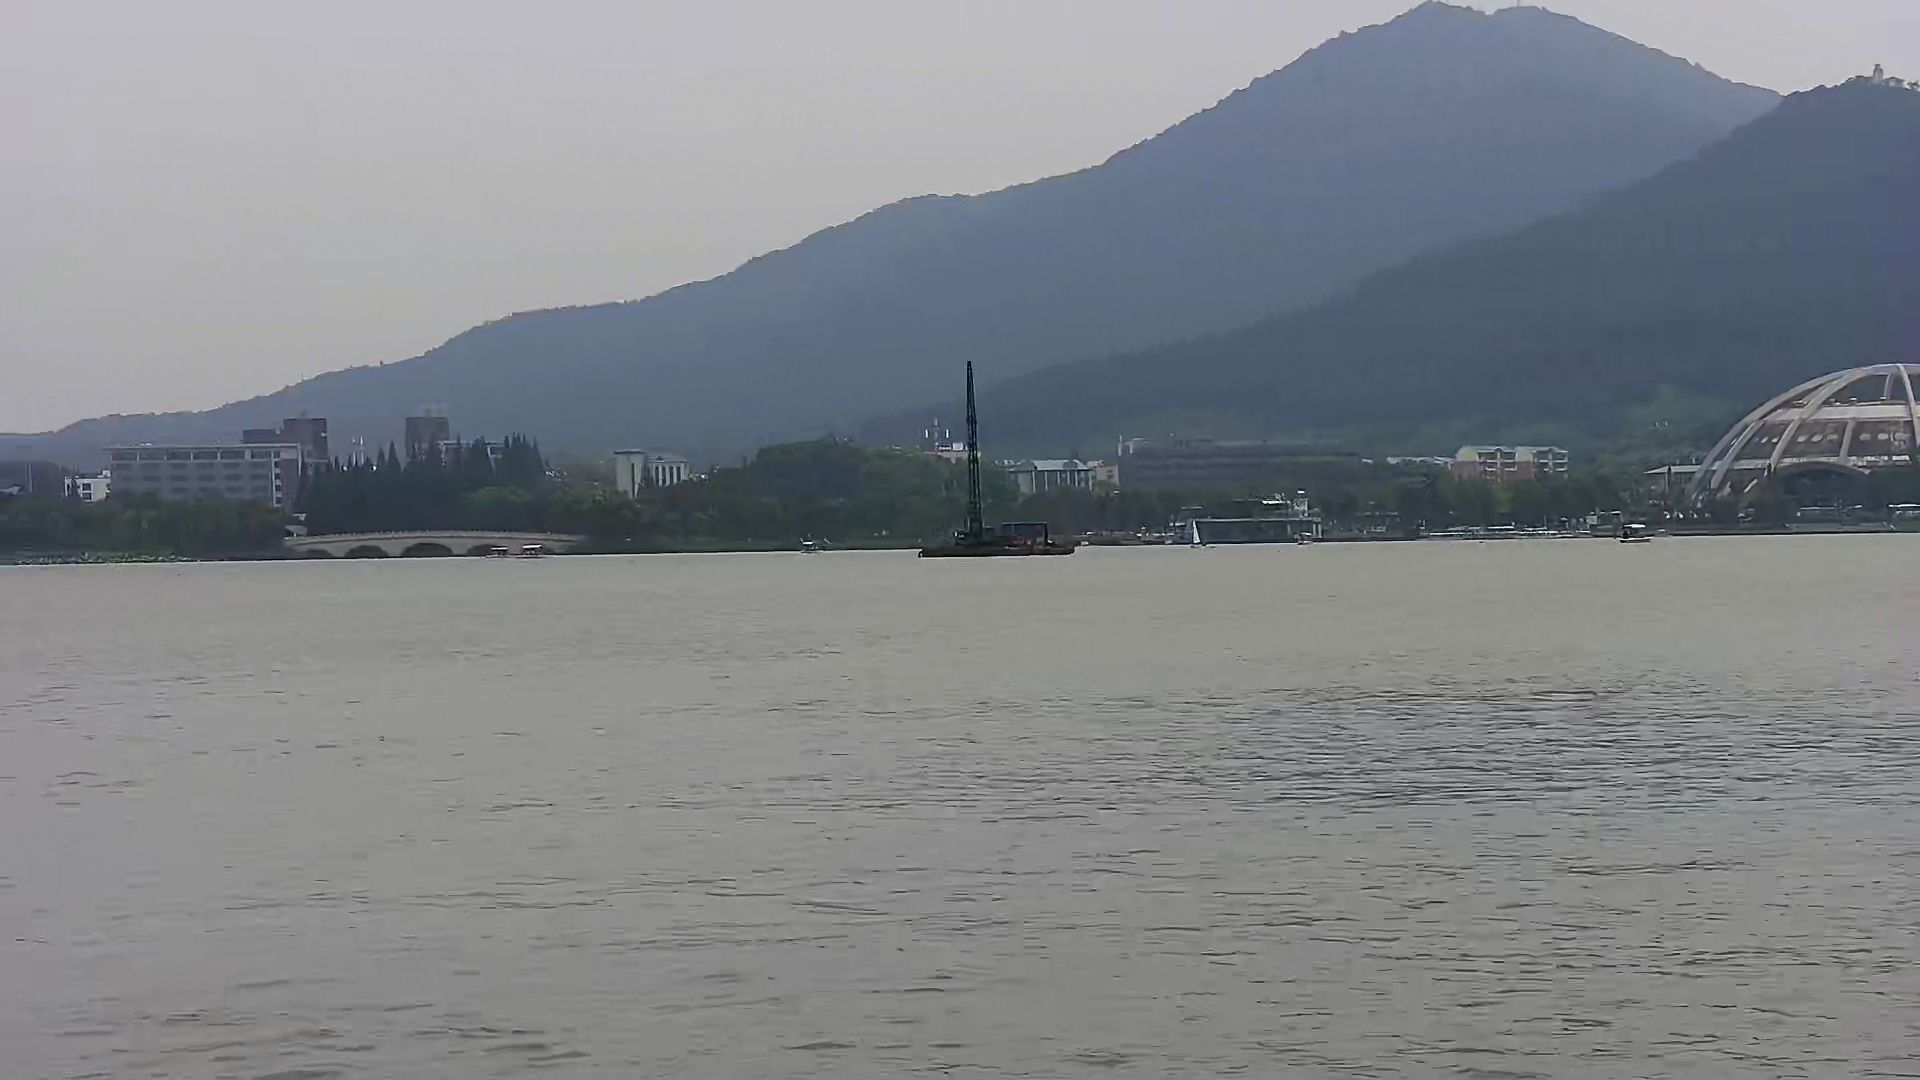boat: (906, 355, 1040, 563), (981, 514, 1091, 559), (1609, 514, 1658, 551), (791, 531, 822, 564), (477, 539, 516, 563), (513, 541, 550, 559)
bridge: (276, 524, 599, 562)
ship: (1772, 500, 1905, 539)
